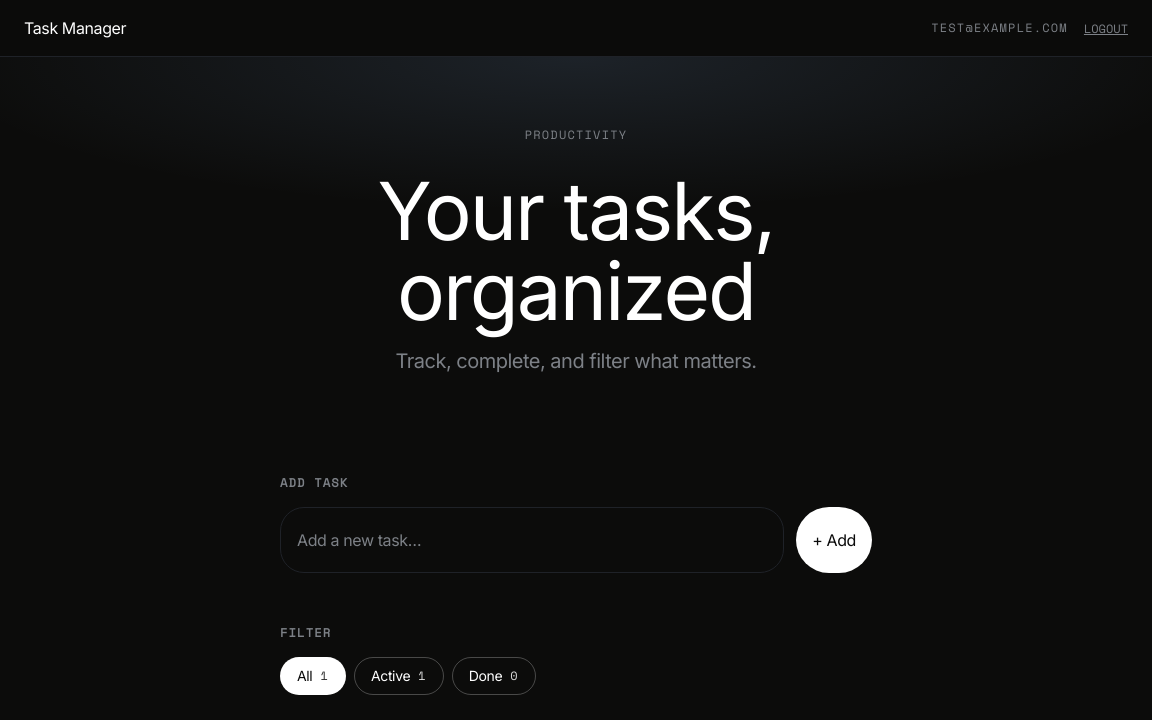
it: App Integration › adds a new task
Type "New task" into the field with placeholder "Add a new task…". click: x=532, y=540
box: [280,507,784,573]
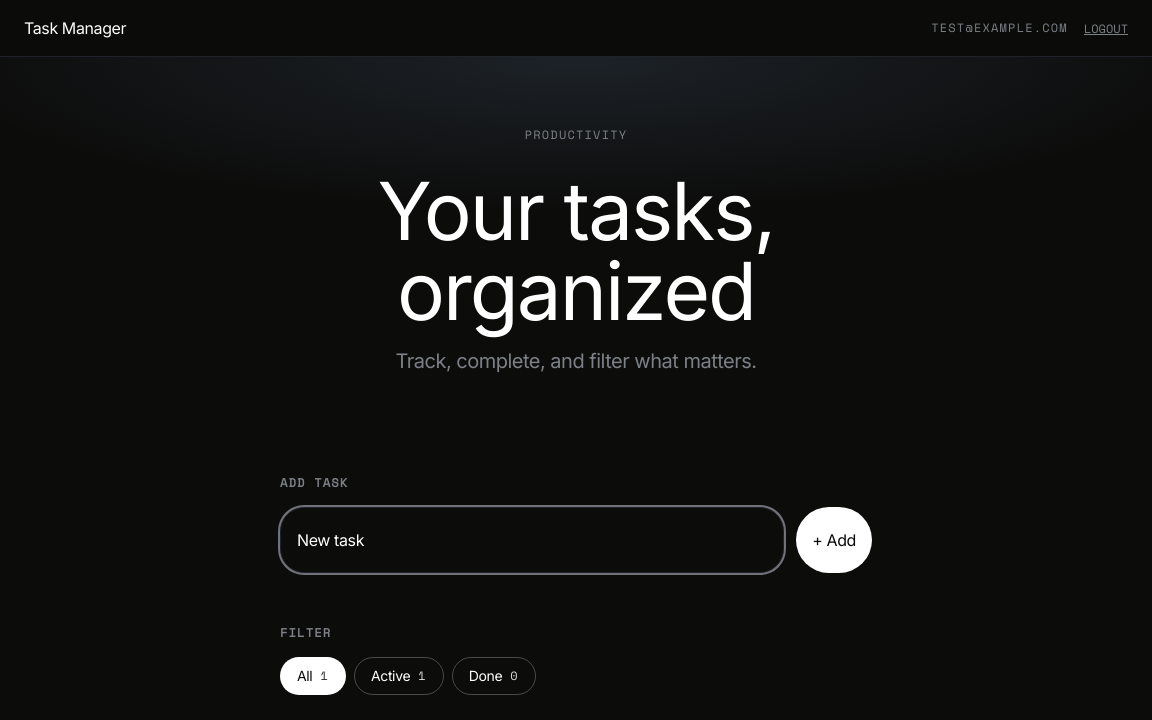
Click the button "+ Add". click: x=834, y=540
box: [796,507,872,573]
(page scrolled)
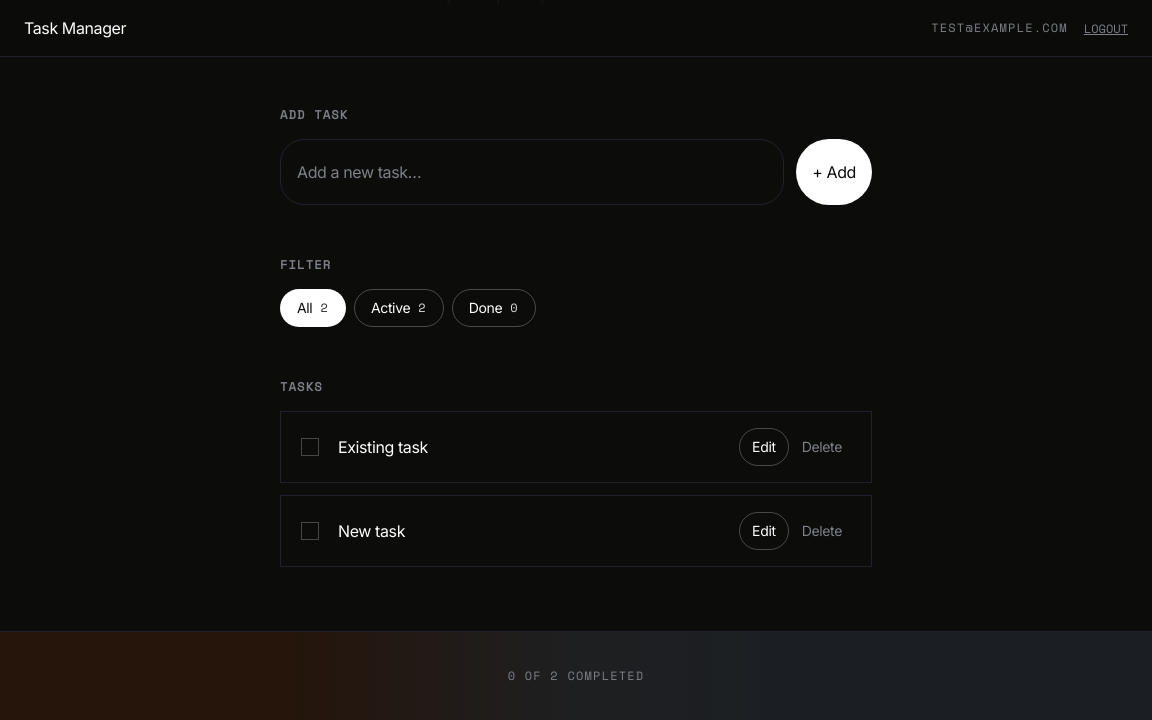
expect the text "New task" is shown: met, box [338,521,405,541]
